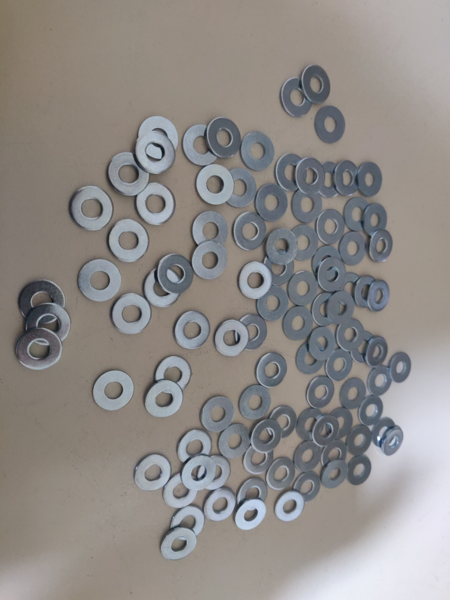circle: (16, 280, 66, 325), (16, 327, 64, 371), (24, 303, 72, 346), (68, 186, 113, 231), (77, 259, 121, 303), (107, 153, 150, 197), (108, 219, 150, 263), (110, 293, 152, 336), (91, 370, 134, 412), (135, 182, 176, 226), (137, 117, 179, 159), (155, 252, 195, 295), (143, 267, 183, 309), (134, 134, 175, 174), (195, 165, 234, 207), (143, 380, 183, 420), (174, 309, 212, 351), (190, 210, 230, 249), (181, 125, 219, 166), (204, 117, 241, 159), (155, 355, 193, 395), (238, 261, 274, 303), (240, 130, 275, 172), (175, 428, 214, 465), (279, 77, 313, 119), (134, 454, 171, 492), (161, 473, 199, 510), (222, 168, 257, 208), (255, 286, 291, 324), (192, 242, 228, 280), (199, 395, 235, 433), (238, 385, 274, 422), (170, 505, 206, 542), (180, 455, 216, 492), (216, 423, 252, 460), (261, 250, 296, 288), (255, 184, 289, 223), (300, 65, 333, 105), (197, 456, 233, 492), (214, 320, 249, 357), (274, 155, 309, 192), (232, 213, 266, 251), (315, 207, 348, 246), (202, 488, 238, 523), (255, 352, 289, 389), (314, 105, 346, 144), (265, 405, 299, 441), (161, 528, 198, 561), (296, 157, 327, 196), (235, 314, 267, 351), (266, 229, 298, 266), (313, 162, 344, 200), (287, 224, 318, 262), (249, 420, 282, 454), (291, 189, 324, 223), (267, 457, 299, 492), (283, 307, 314, 343), (356, 161, 385, 199), (315, 259, 348, 292), (311, 243, 343, 277), (296, 408, 327, 443), (343, 424, 374, 459), (332, 160, 361, 197), (274, 491, 306, 524), (320, 438, 352, 471), (293, 441, 325, 474), (234, 499, 267, 531), (334, 272, 366, 305), (292, 471, 323, 505), (288, 272, 319, 306), (243, 443, 274, 476), (237, 478, 268, 511), (307, 327, 336, 362), (312, 292, 341, 327), (339, 377, 368, 411), (327, 292, 356, 326), (343, 198, 372, 232), (339, 232, 367, 267), (325, 349, 354, 382), (296, 342, 325, 375), (307, 375, 335, 409), (367, 230, 395, 264), (361, 203, 388, 238), (336, 319, 364, 352), (349, 331, 377, 364), (326, 408, 355, 439), (359, 395, 385, 429), (353, 275, 379, 309), (312, 416, 340, 447), (346, 456, 373, 487), (372, 417, 398, 449), (367, 280, 391, 314), (367, 365, 393, 396), (364, 336, 389, 368), (381, 425, 405, 458), (389, 351, 413, 384)
